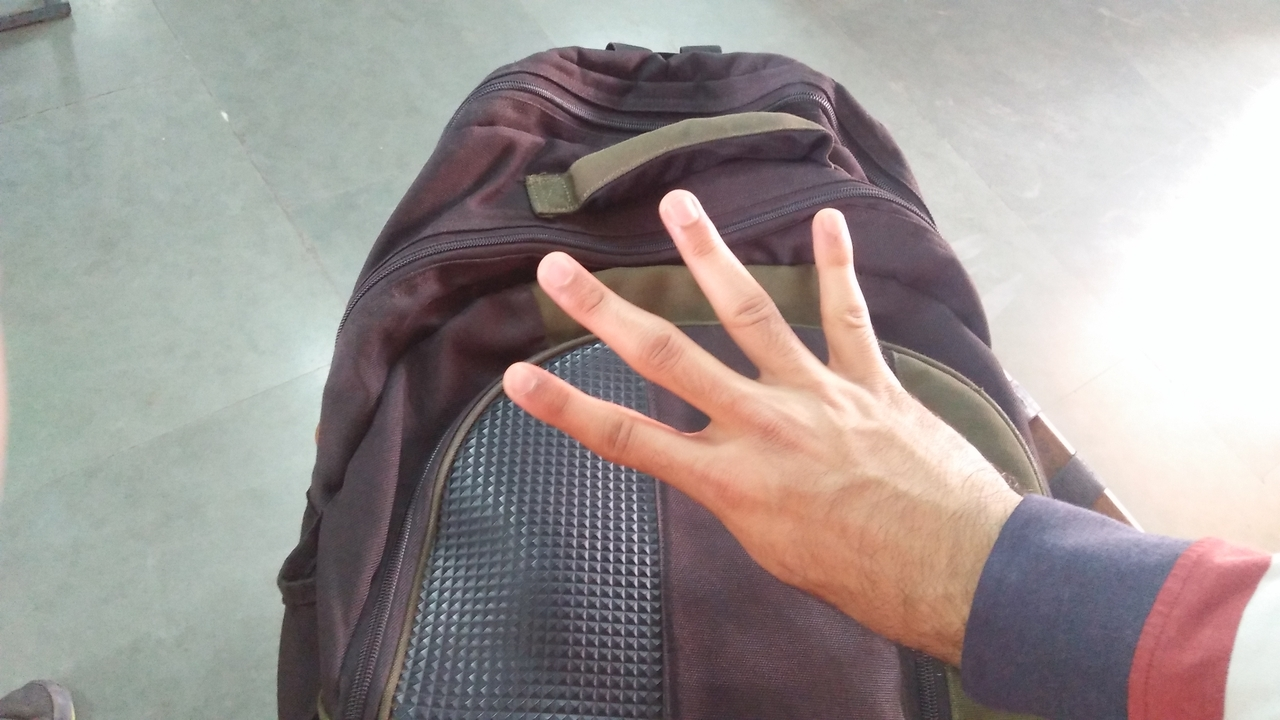fingertip: (650, 178, 726, 246), (528, 240, 608, 304), (485, 354, 551, 405), (806, 204, 862, 250)
